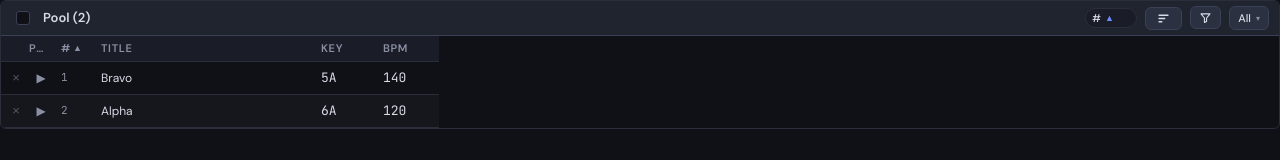
Test: SetPoolTable multi-sort › shift-click adds a second sort column with precedence indicators
Step 1. Click the column heading "Title" → (205, 48), box [95, 36, 315, 61]
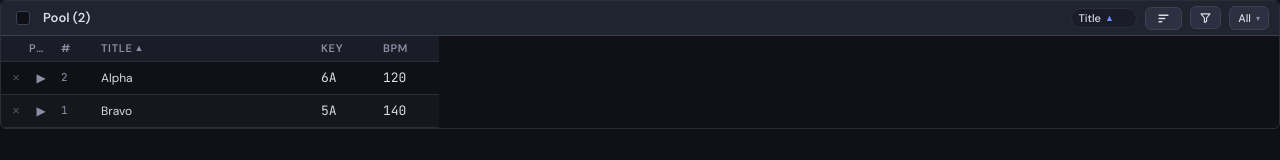
Step 2. Click the column heading "BPM" → (408, 48), box [377, 36, 439, 61]
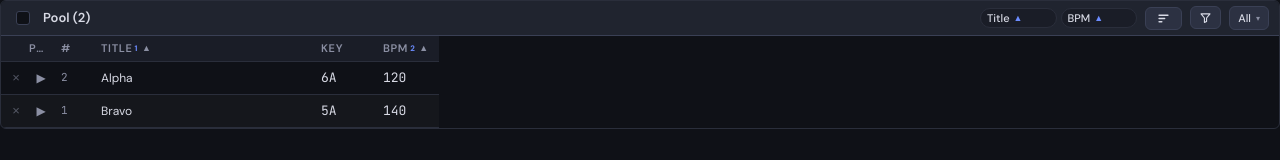
Expected: the number of elements with class "sort-precedence" is 2, [134, 42, 138, 52]; [410, 42, 415, 52]
